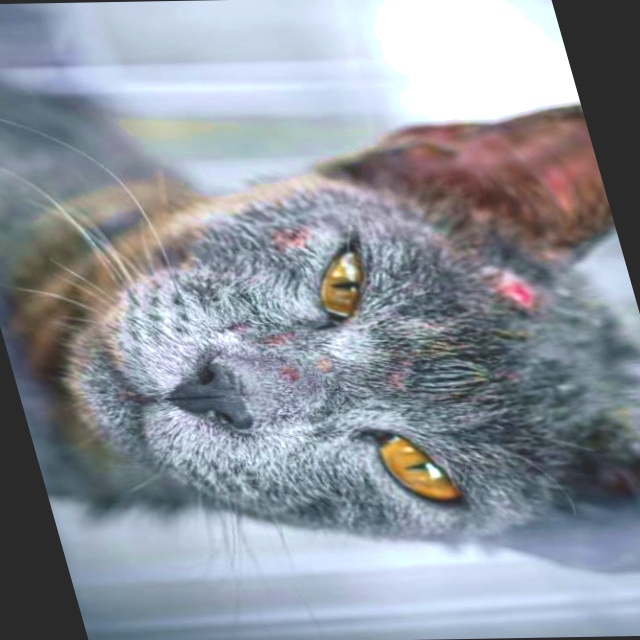ringworm: (262, 332, 310, 386), (501, 281, 535, 312), (271, 235, 308, 249)
